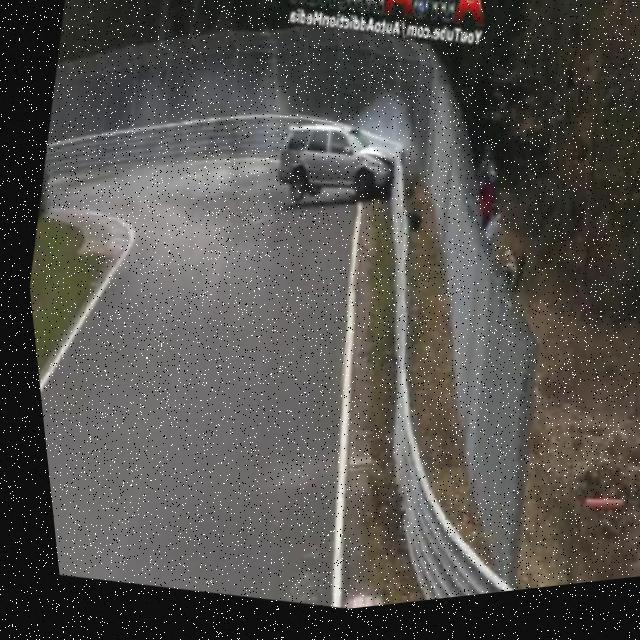Car Accident Detector - v4 Generation1 Exported: (256, 106, 414, 238)
